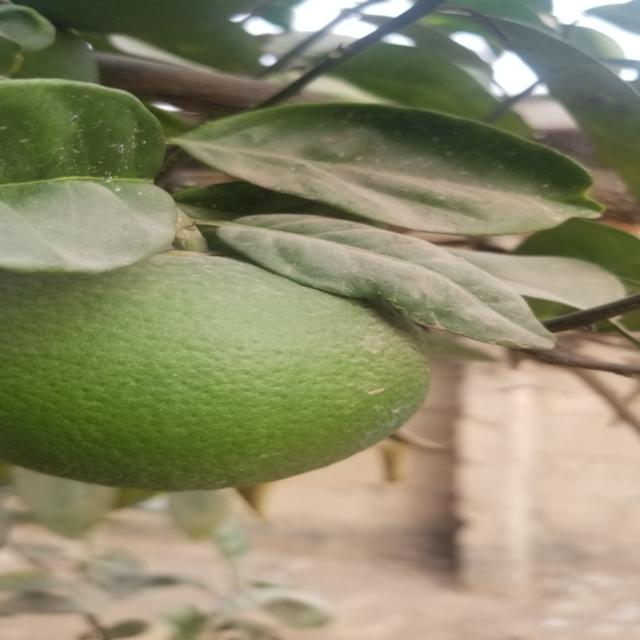Unripe: (0, 254, 434, 489)
